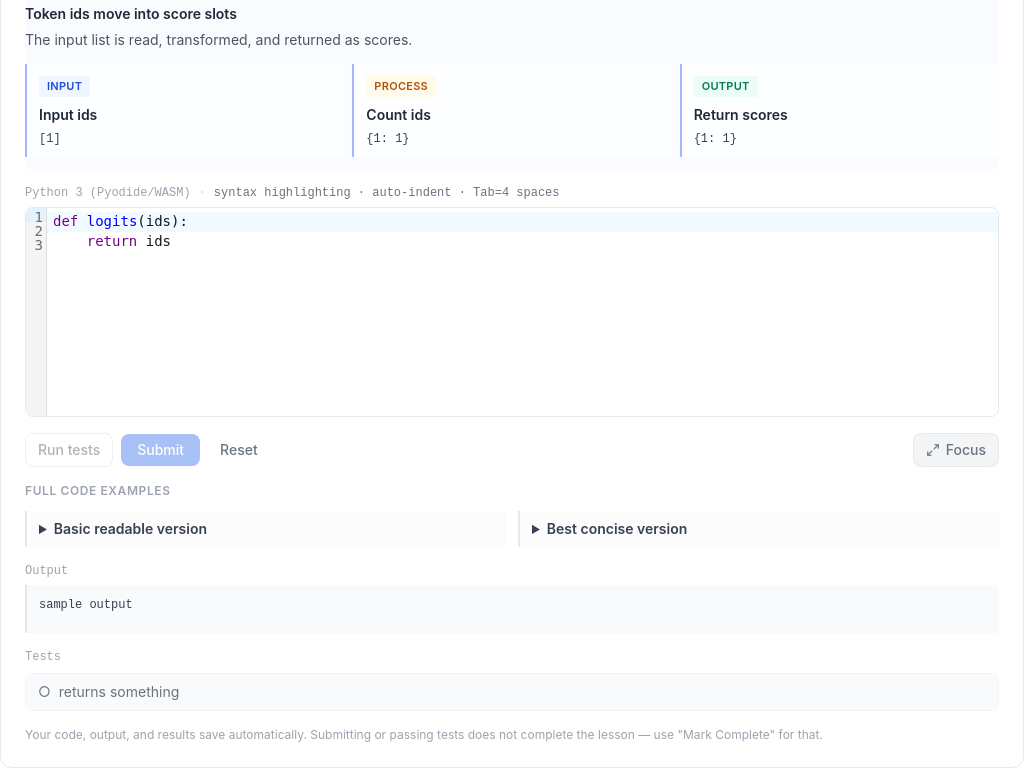
Test: PythonSection › uses the same light theme in focus mode
This screenshot has width=1024, height=768.
(page scrolled)
Click the button with aria-label "enter fullscreen" at (956, 450), box [913,433,999,467]
(page scrolled)
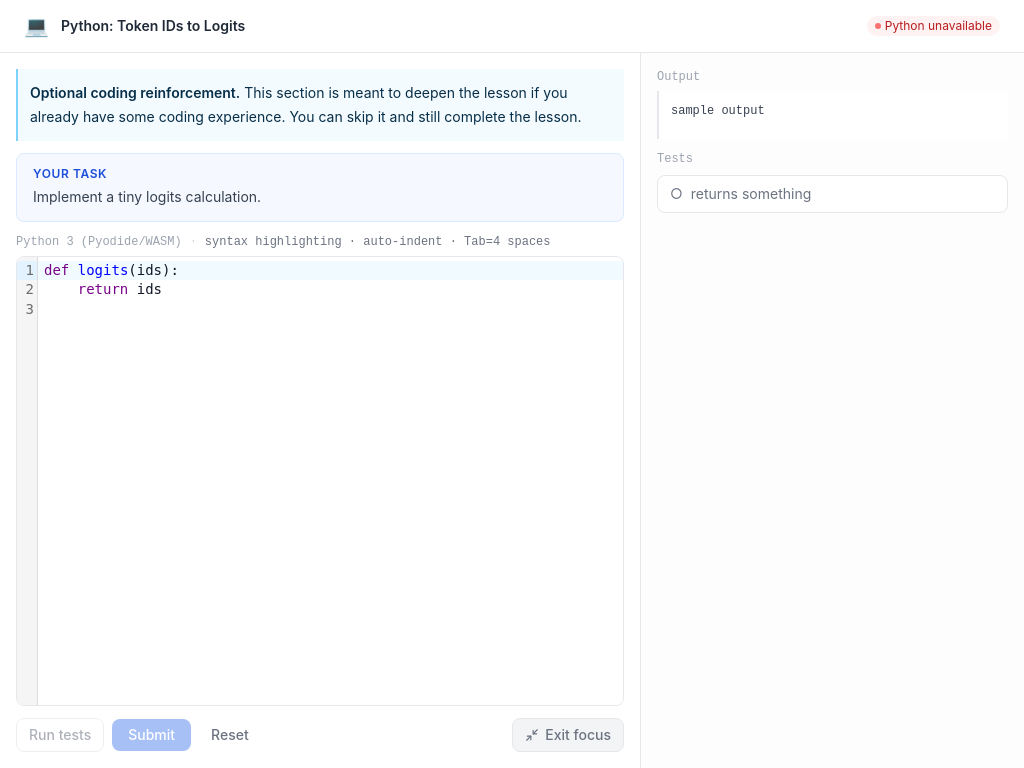
Check: the dialog named "python code editor fullscreen" is shown
Check: the text "Python unavailable" is shown, box [867,16,1000,36]
